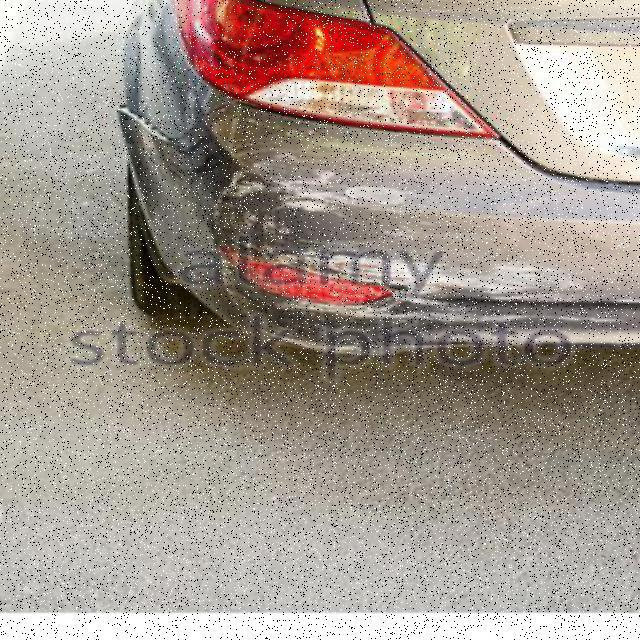car damage: (98, 109, 638, 352)
